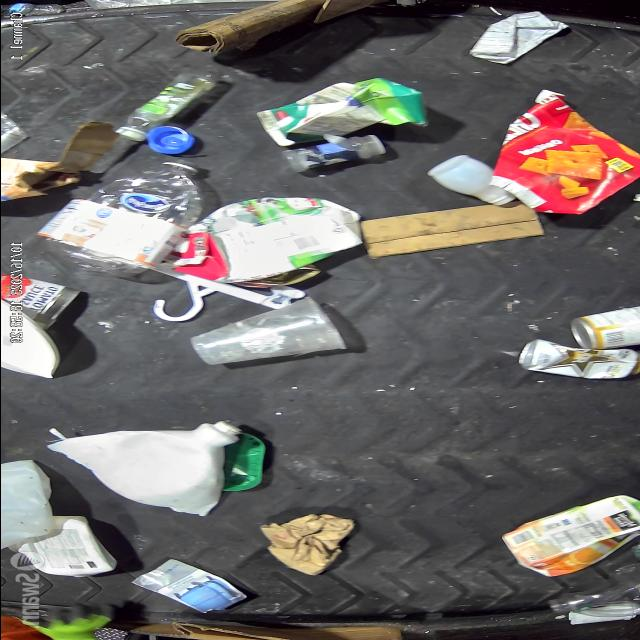can: (515, 340, 640, 380), (0, 276, 79, 320), (568, 306, 640, 350)
milk_jug: (46, 420, 240, 518), (5, 516, 116, 578), (0, 459, 52, 552)
non_white_jug: (174, 197, 362, 283), (254, 78, 426, 148), (499, 495, 640, 578), (545, 564, 640, 618)
plastic_bottle: (45, 162, 202, 280), (112, 72, 218, 142), (278, 134, 384, 172), (0, 4, 63, 15)
